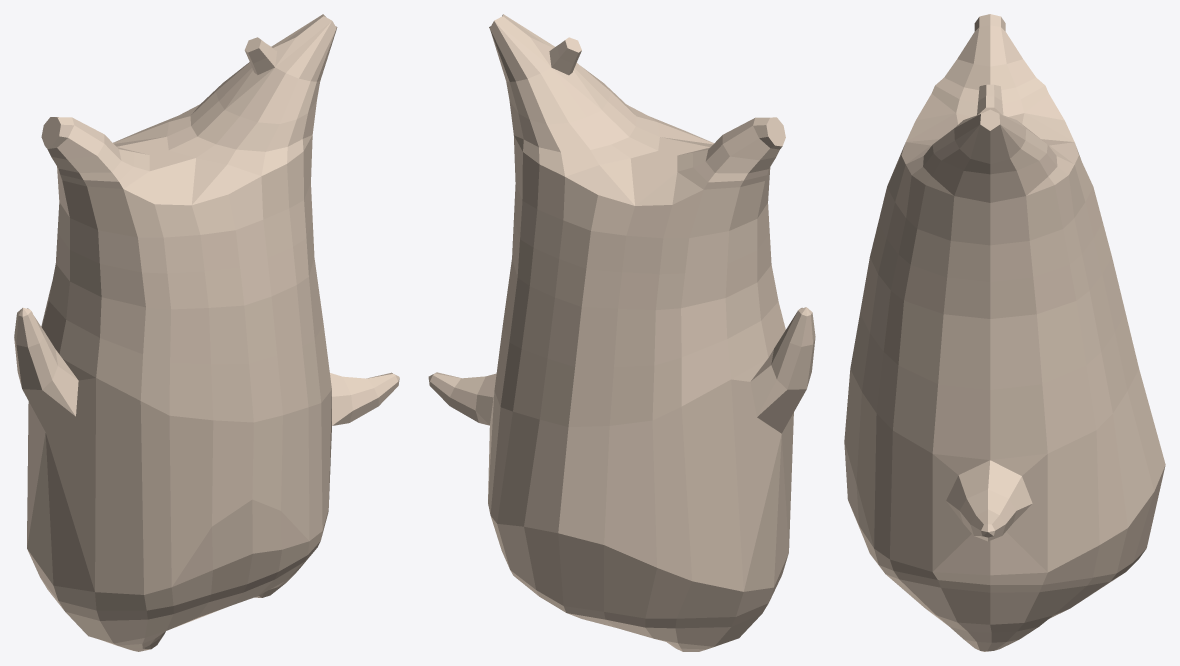
The model's file is frame_0066.obj.
The picture shows the model from 3 angles, left to right: view 1: azimuth 30°, elevation 25°; view 2: azimuth 150°, elevation 25°; view 3: azimuth 270°, elevation 25°; orthographic projection.
Visible parts, largest first — view 1: korok; view 2: korok; view 3: korok.
Boxes of the visible parts, box(x1,y1,x2,y2) form: korok: box(14, 14, 399, 651); korok: box(428, 14, 815, 651); korok: box(844, 14, 1165, 651).
Size of the model in its own units: 1.5 by 2.19 by 1.07.
